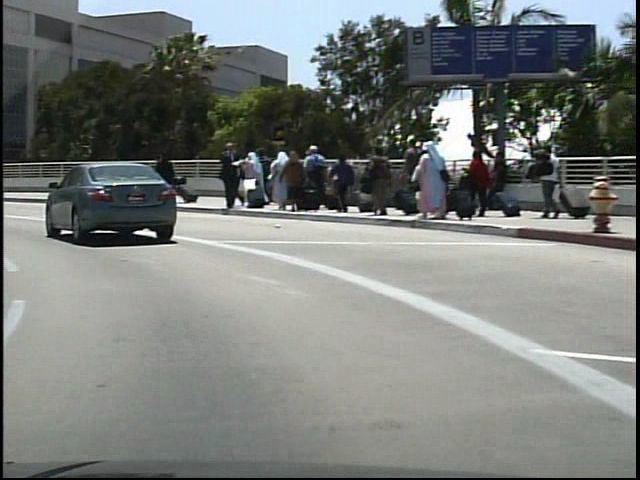person: (525, 139, 559, 224), (214, 138, 239, 215), (147, 147, 175, 212), (218, 147, 243, 209), (158, 153, 178, 196)
